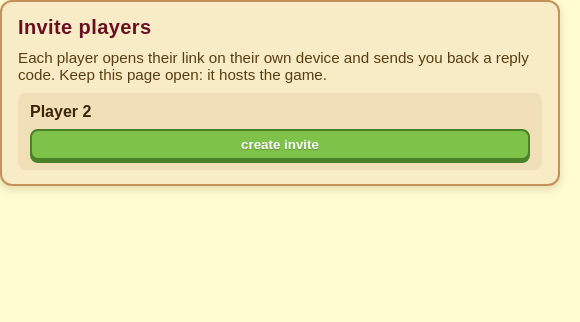
Test: PeerInvites › creates an invite and connects the player with the reply code
Later steps or results of the test are not shown.
Click the button "create invite" at (280, 144), box [30,129,530,160]
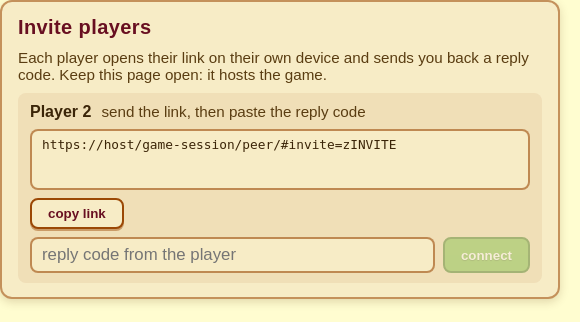
Expected: the text box named "link" holds "https://host/game-session/peer/#invite=zINVITE", [30,129,530,190]
Expected: the button "connect" is disabled, [443,237,530,273]
Type " zREPLY " into the field labelled "reply code" at (232, 255), box [30,237,435,273]
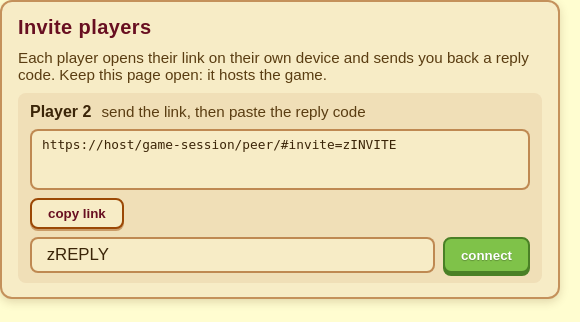
Click the button "connect" at (486, 255), box [443,237,530,273]
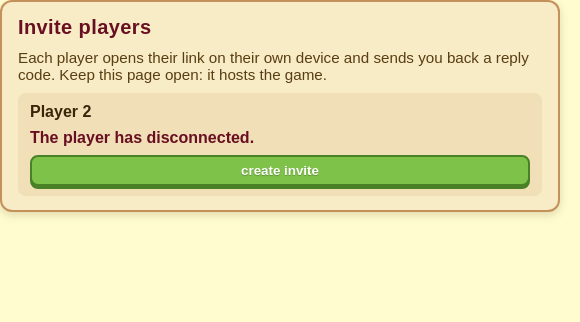
Expected: the text "The player has disconnected." is shown, [30,129,254,146]
Expected: the button "create invite" is shown, [30,155,530,186]
